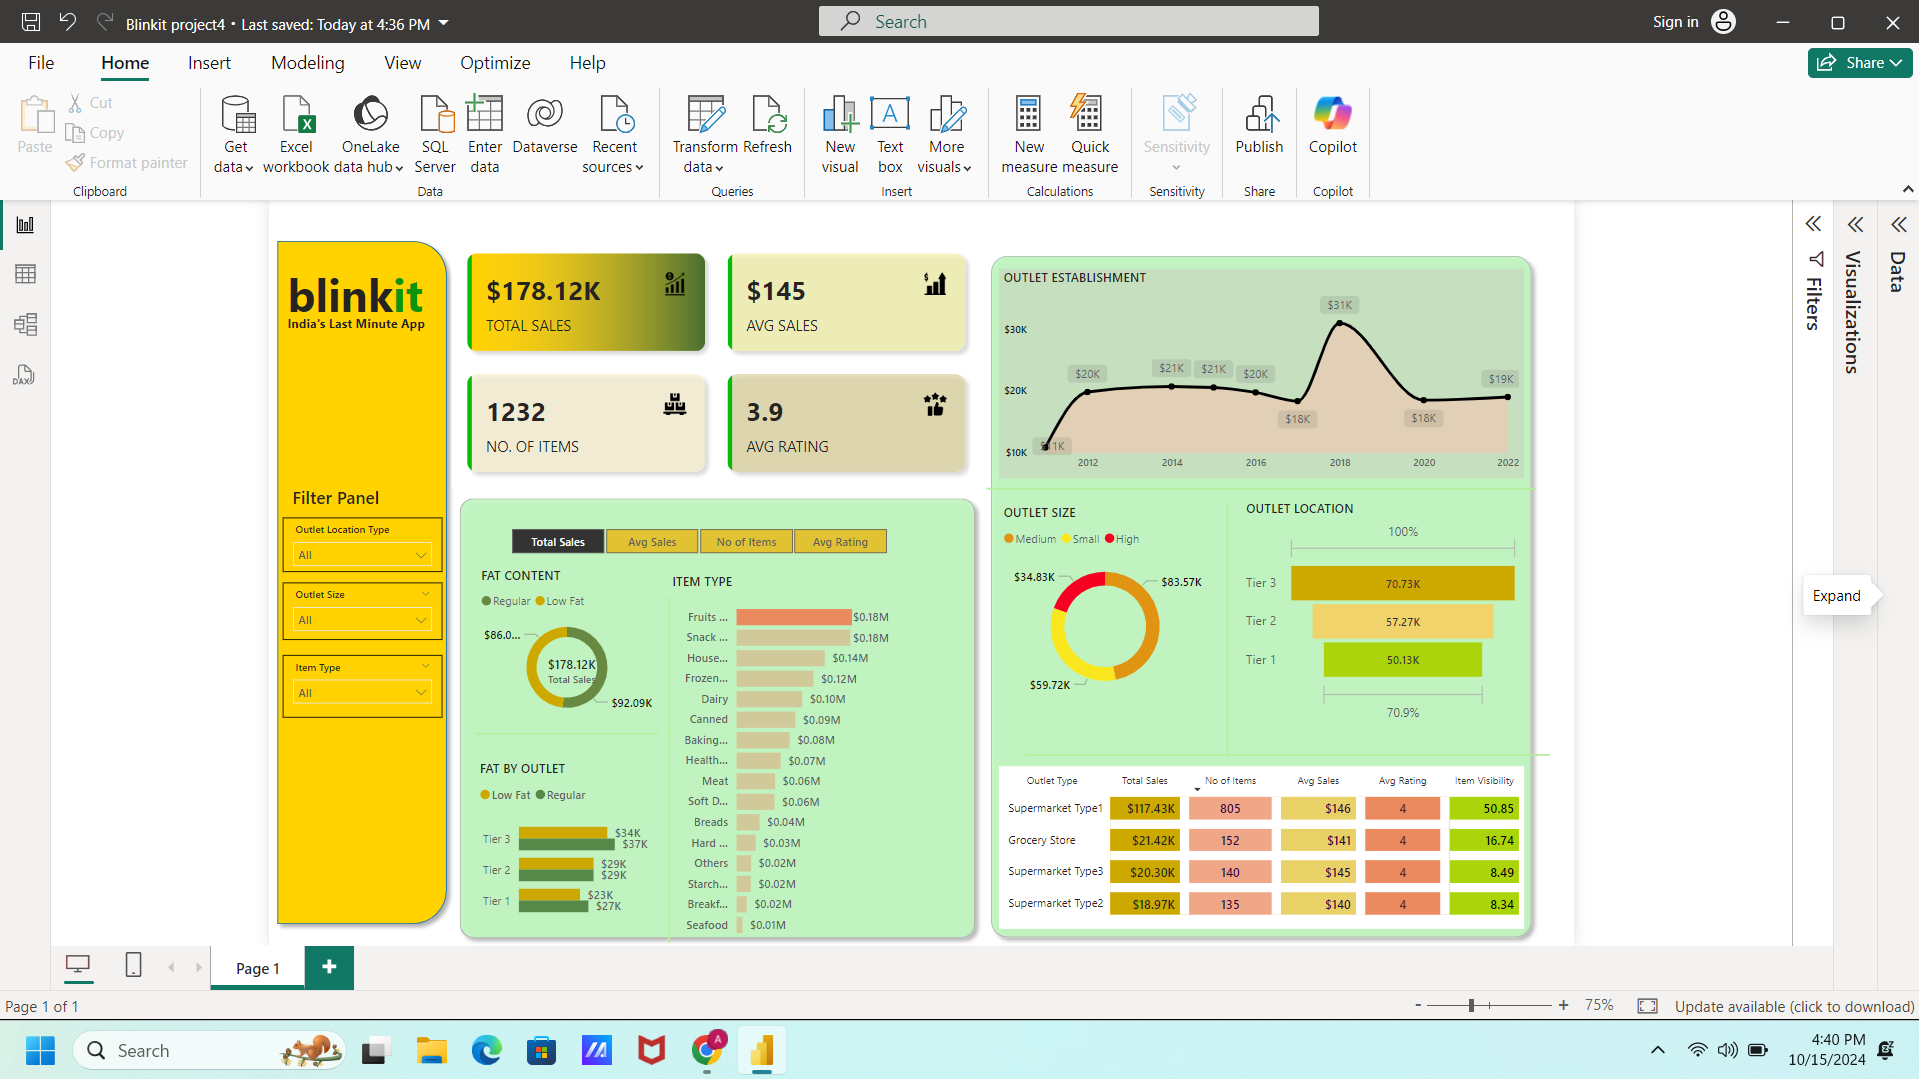

The dashboard page shown, as its layout file describes it:
{"tool":"powerbi","page":{"name":"Page 1","canvas":[1400,800],"ordinal":0},"visuals":[{"type":"shape","box":[0,34.9,199.7,750.7],"z":0},{"type":"textbox","box":[250.6,673.9,250.6,78],"z":1000},{"type":"textbox","box":[250.6,517.8,202.6,156.1],"z":2000},{"type":"textbox","box":[15,63,171.1,87.1],"z":3000},{"type":"textbox","box":[14.7,118,181,42.9],"z":4000},{"type":"cardVisual","fields":{"Data":["BlinkIT Grocery Data.Total Sales","BlinkIT Grocery Data.Avg Sales","BlinkIT Grocery Data.No of Items","BlinkIT Grocery Data.Avg Rating"]},"box":[195.7,40.2,569.7,269.4],"z":5000},{"type":"shape","box":[195.1,310.7,570.3,489.3],"z":6000},{"type":"donutChart","title":"FAT CONTENT","fields":{"Y":["BlinkIT Grocery Data.Total Sales"],"Category":["BlinkIT Grocery Data.Item Fat Content"]},"box":[222.5,392.8,194.4,171.6],"z":7000},{"type":"slicer","fields":{"Values":["Metrics.Metrics"]},"box":[234.6,345.8,451.7,36.2],"z":8000},{"type":"cardVisual","fields":{"Data":["BlinkIT Grocery Data.Total Sales"]},"box":[250.6,466.8,148.6,76.5],"z":9000},{"type":"clusteredBarChart","title":"FAT BY OUTLET ","fields":{"Y":["BlinkIT Grocery Data.Total Sales"],"Category":["BlinkIT Grocery Data.Outlet Location Type"],"Series":["BlinkIT Grocery Data.Item Fat Content"]},"box":[220.6,600.3,195.1,183.1],"z":10000},{"type":"shape","box":[221.2,541.6,195.7,61.7],"z":11000},{"type":"shape","box":[345.2,426.2,166.6,370.7],"z":12000},{"type":"barChart","title":"ITEM TYPE","fields":{"Y":["BlinkIT Grocery Data.Total Sales"],"Category":["BlinkIT Grocery Data.Item Type"]},"box":[427.6,399.5,242.6,400.8],"z":13000},{"type":"shape","box":[765.4,51,597.3,748.9],"z":14000},{"type":"lineChart","title":"OUTLET ESTABLISHMENT","fields":{"Category":["BlinkIT Grocery Data.Outlet Establishment Year"],"Y":["BlinkIT Grocery Data.Total Sales"]},"box":[783.5,73.5,562.8,225.1],"z":15000},{"type":"shape","box":[769.9,279.2,589.8,61.5],"z":16000},{"type":"donutChart","title":"OUTLET SIZE","fields":{"Y":["BlinkIT Grocery Data.Total Sales"],"Category":["BlinkIT Grocery Data.Outlet Size"]},"box":[783.5,325.7,228.1,217.6],"z":17000},{"type":"shape","box":[948.5,325.7,157.6,270.2],"z":18000},{"type":"funnel","title":"OUTLET LOCATION","fields":{"Category":["BlinkIT Grocery Data.Outlet Location Type"],"Y":["BlinkIT Grocery Data.Sales"]},"box":[1043.1,321.2,303.2,243.1],"z":19000},{"type":"shape","box":[810.5,564.3,562.8,61.5],"z":20000},{"type":"pivotTable","fields":{"Rows":["BlinkIT Grocery Data.Outlet Type"],"Values":["BlinkIT Grocery Data.Total Sales","BlinkIT Grocery Data.No of Items","BlinkIT Grocery Data.Avg Sales","BlinkIT Grocery Data.Avg Rating","BlinkIT Grocery Data.Item Visibility"]},"box":[782.8,607.2,563,174.3],"z":21000},{"type":"slicer","fields":{"Values":["BlinkIT Grocery Data.Outlet Location Type"]},"box":[15,340.7,171.1,58.5],"z":22000},{"type":"slicer","fields":{"Values":["BlinkIT Grocery Data.Outlet Size"]},"box":[15,409.7,171.1,61.5],"z":23000},{"type":"slicer","fields":{"Values":["BlinkIT Grocery Data.Item Type"]},"box":[15,487.8,171.1,67.5],"z":24000},{"type":"textbox","title":"Filter Panel","box":[14.7,305.6,108.6,32.2],"z":25000}]}

Visuals, with their boxes on the page's 1400x800 design canvas (x1, y1, x2, y2). These are canvas units, not pixel positions in the 1919x1079 screenshot, which may show the page scaled, cropped or inside an application window:
shape: bbox=[0, 35, 200, 786]
textbox: bbox=[251, 674, 501, 752]
textbox: bbox=[251, 518, 453, 674]
textbox: bbox=[15, 63, 186, 150]
textbox: bbox=[15, 118, 196, 161]
cardVisual - BlinkIT Grocery Data.Total Sales x BlinkIT Grocery Data.Avg Sales: bbox=[196, 40, 765, 310]
shape: bbox=[195, 311, 765, 800]
"FAT CONTENT" donutChart: bbox=[222, 393, 417, 564]
slicer - Metrics.Metrics: bbox=[235, 346, 686, 382]
cardVisual - BlinkIT Grocery Data.Total Sales: bbox=[251, 467, 399, 543]
"FAT BY OUTLET " clusteredBarChart: bbox=[221, 600, 416, 783]
shape: bbox=[221, 542, 417, 603]
shape: bbox=[345, 426, 512, 797]
"ITEM TYPE" barChart: bbox=[428, 400, 670, 800]
shape: bbox=[765, 51, 1363, 800]
"OUTLET ESTABLISHMENT" lineChart: bbox=[784, 74, 1346, 299]
shape: bbox=[770, 279, 1360, 341]
"OUTLET SIZE" donutChart: bbox=[784, 326, 1012, 543]
shape: bbox=[948, 326, 1106, 596]
"OUTLET LOCATION" funnel: bbox=[1043, 321, 1346, 564]
shape: bbox=[810, 564, 1373, 626]
pivotTable - BlinkIT Grocery Data.Outlet Type x BlinkIT Grocery Data.Total Sales: bbox=[783, 607, 1346, 782]
slicer - BlinkIT Grocery Data.Outlet Location Type: bbox=[15, 341, 186, 399]
slicer - BlinkIT Grocery Data.Outlet Size: bbox=[15, 410, 186, 471]
slicer - BlinkIT Grocery Data.Item Type: bbox=[15, 488, 186, 555]
"Filter Panel" textbox: bbox=[15, 306, 123, 338]
